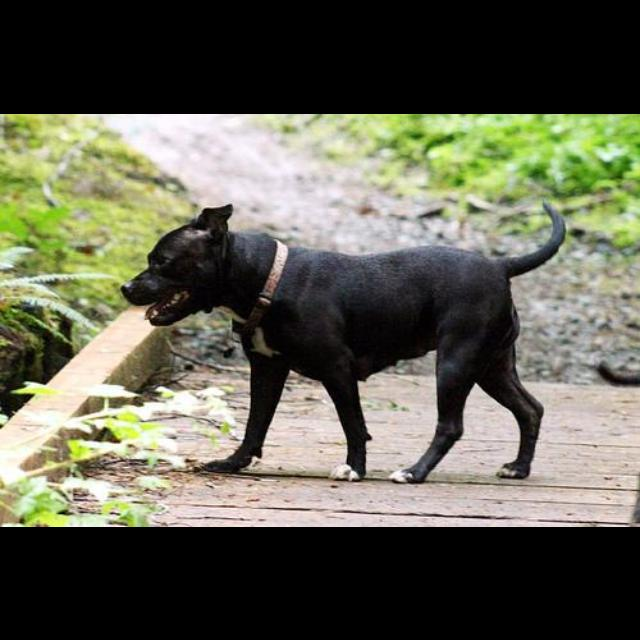staffford: (120, 200, 566, 484)
